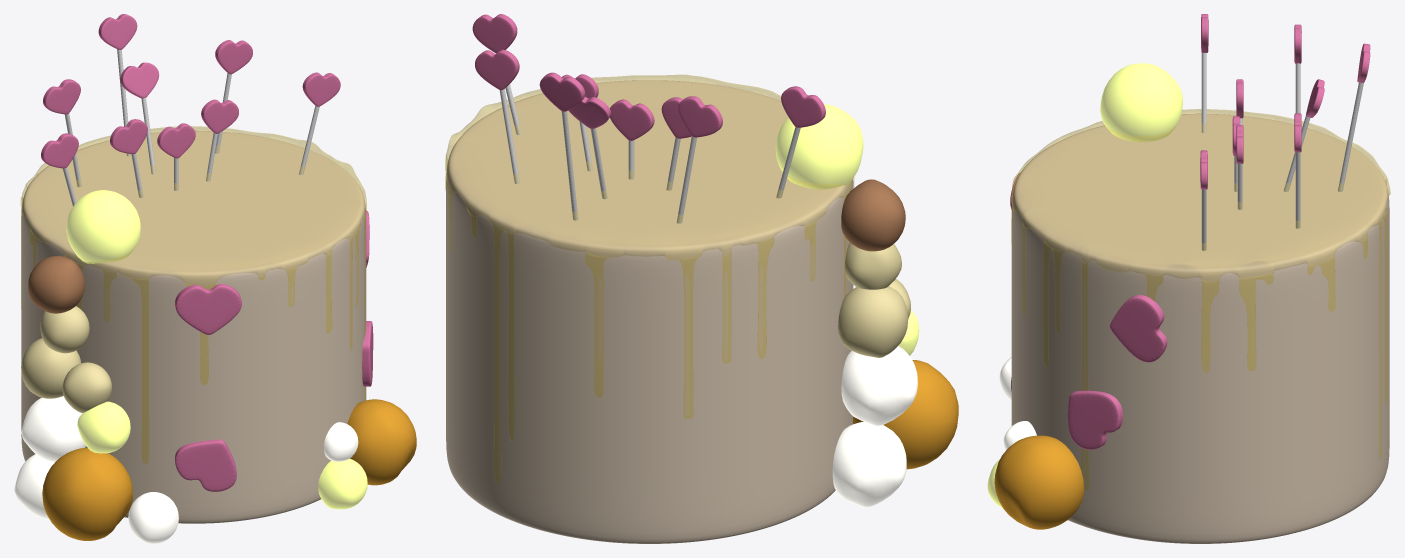
Rendered from Cake_Layer_1_Cream_Topper1_Hearts_BrownDrip.glb.
3 renders of one model, left to right at view 1: azimuth 30°, elevation 25°; view 2: azimuth 150°, elevation 25°; view 3: azimuth 270°, elevation 25°, orthographic. The views are drawn at different scales.
Parts seen in each view (by area): view 1: Circle, Circle.001, Sphere, Sphere.015, Sphere.026, Sphere.002, Sphere.006, Star.003, Star.002, Sphere.005, Sphere.003, Sphere.001 (+15 smaller); view 2: Circle, Circle.001, Sphere.015, Sphere.013, Sphere.002, Sphere, Sphere.005, Sphere.006, Sphere.010, Star.006, Star.005, Star.009 (+6 smaller); view 3: Circle, Circle.001, Sphere.026, Sphere.015, Star.001, Star.004, Cylinder.049, Sphere.027.
Boxes of the visible parts, <box> form: Circle: <box>21,130,366,523</box>; Circle.001: <box>21,126,366,463</box>; Sphere: <box>42,448,132,540</box>; Sphere.015: <box>66,190,140,263</box>; Sphere.026: <box>347,399,416,485</box>; Sphere.002: <box>21,396,85,462</box>; Sphere.006: <box>28,256,84,313</box>; Star.003: <box>175,284,241,334</box>; Star.002: <box>175,439,236,491</box>; Sphere.005: <box>21,338,80,398</box>; Sphere.003: <box>77,401,130,453</box>; Sphere.001: <box>128,492,178,543</box>; Circle: <box>446,80,853,543</box>; Circle.001: <box>445,75,853,482</box>; Sphere.015: <box>775,104,863,189</box>; Sphere.013: <box>832,421,906,507</box>; Sphere.002: <box>841,346,917,426</box>; Sphere: <box>853,360,958,469</box>; Sphere.005: <box>838,286,908,357</box>; Sphere.006: <box>841,179,905,251</box>; Sphere.010: <box>844,242,901,289</box>; Star.006: <box>678,96,722,137</box>; Star.005: <box>781,86,825,127</box>; Star.009: <box>475,49,519,90</box>; Circle: <box>1011,113,1389,543</box>; Circle.001: <box>1011,109,1390,490</box>; Sphere.026: <box>994,435,1084,529</box>; Sphere.015: <box>1100,63,1182,142</box>; Star.001: <box>1110,295,1167,362</box>; Star.004: <box>1068,390,1123,449</box>; Cylinder.049: <box>1338,82,1363,191</box>; Sphere.027: <box>1003,421,1036,450</box>.
Bounding box in the file's own units: 0.1763 × 0.1867 × 0.159.
